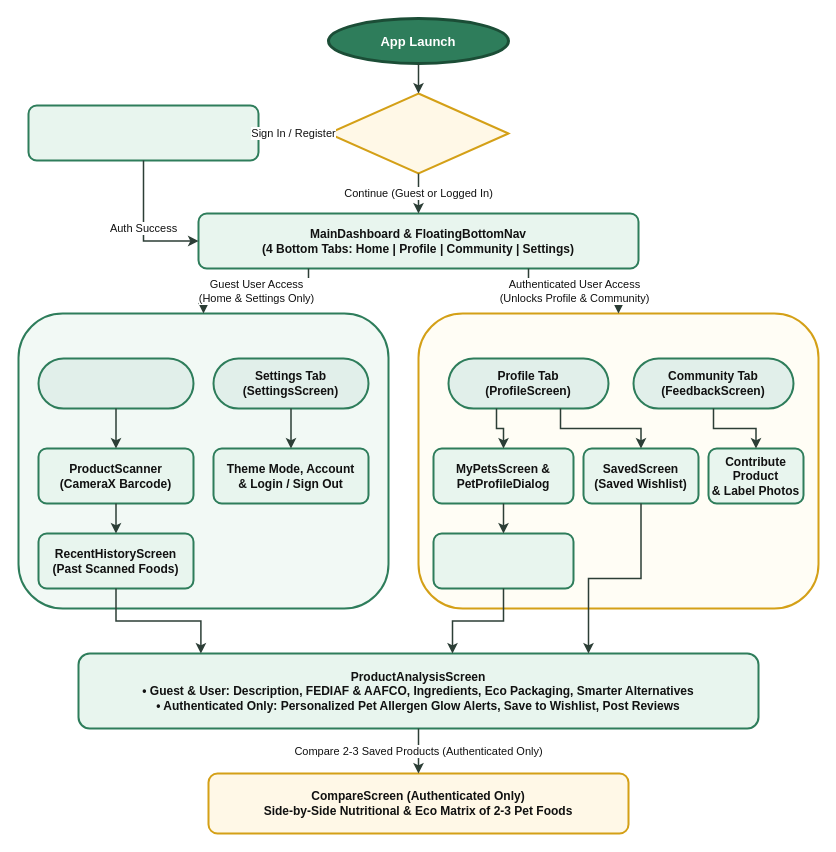
Some shapes in this 836 by 852 pixel diagram are drawn without their labels. The shapes that lost their labels are listed below. From the top down, each one's box as (x1, y1, x2, y2) in pixels, then its label:
(27, 104, 259, 161): AuthScreens (Login / Sign Up / Verify Email)
(327, 92, 509, 174): User Role / Auth Status?
(37, 357, 194, 409): Home Tab (MainDashboard)
(17, 312, 389, 609): Accessible to Both Guest & Authenticated Users
(417, 312, 819, 609): Authenticated Pet Parent Only (Prompts Login for Guests)
(432, 532, 574, 589): SuitableFoodScreen (Ranked Safe Foods)
